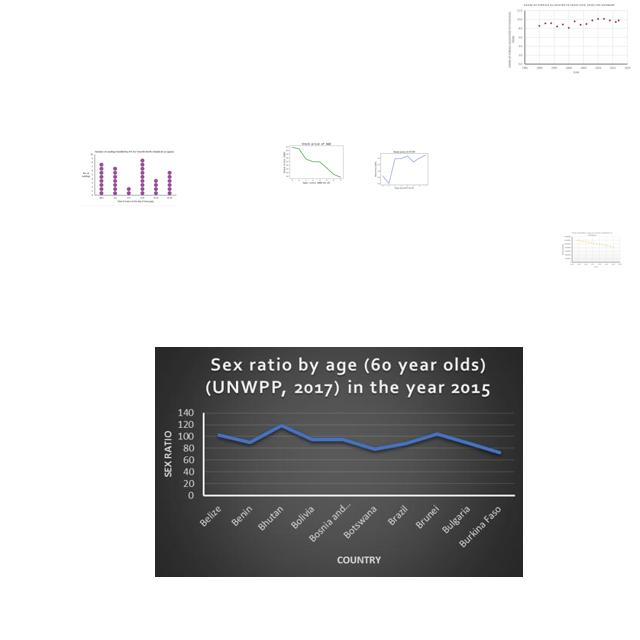Graph: (155, 347, 523, 577), (506, 2, 633, 78), (79, 147, 179, 206), (281, 136, 350, 188), (373, 146, 434, 192), (562, 231, 622, 268)
